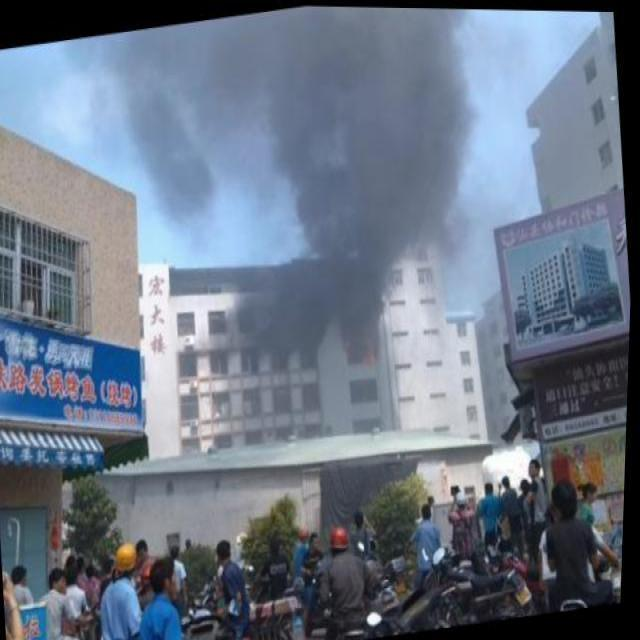smoke: (227, 3, 486, 190), (110, 13, 249, 236), (297, 151, 475, 281), (253, 252, 394, 360)
